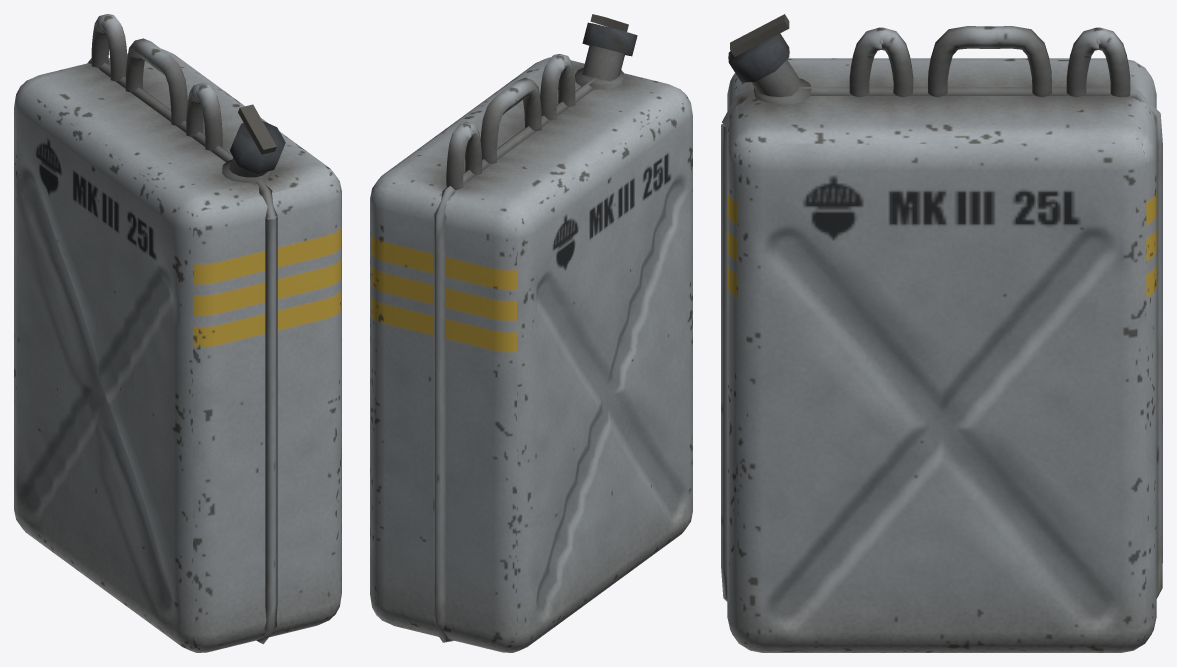
File: OA_FuelCanMk3_Ground.fbx
3 renders of one model, left to right at view 1: azimuth 30°, elevation 25°; view 2: azimuth 150°, elevation 25°; view 3: azimuth 270°, elevation 25°, orthographic. The views are drawn at different scales.
Parts seen in each view (by area): view 1: OA_FuelCanMk3_Ground; view 2: OA_FuelCanMk3_Ground; view 3: OA_FuelCanMk3_Ground.
Boxes of the visible parts, x1,y1,x2,y2 form: OA_FuelCanMk3_Ground: (14, 14, 341, 652); OA_FuelCanMk3_Ground: (370, 14, 692, 652); OA_FuelCanMk3_Ground: (721, 14, 1162, 652).
Size of the model in its own units: 0.2389 by 0.7368 by 0.4861.
